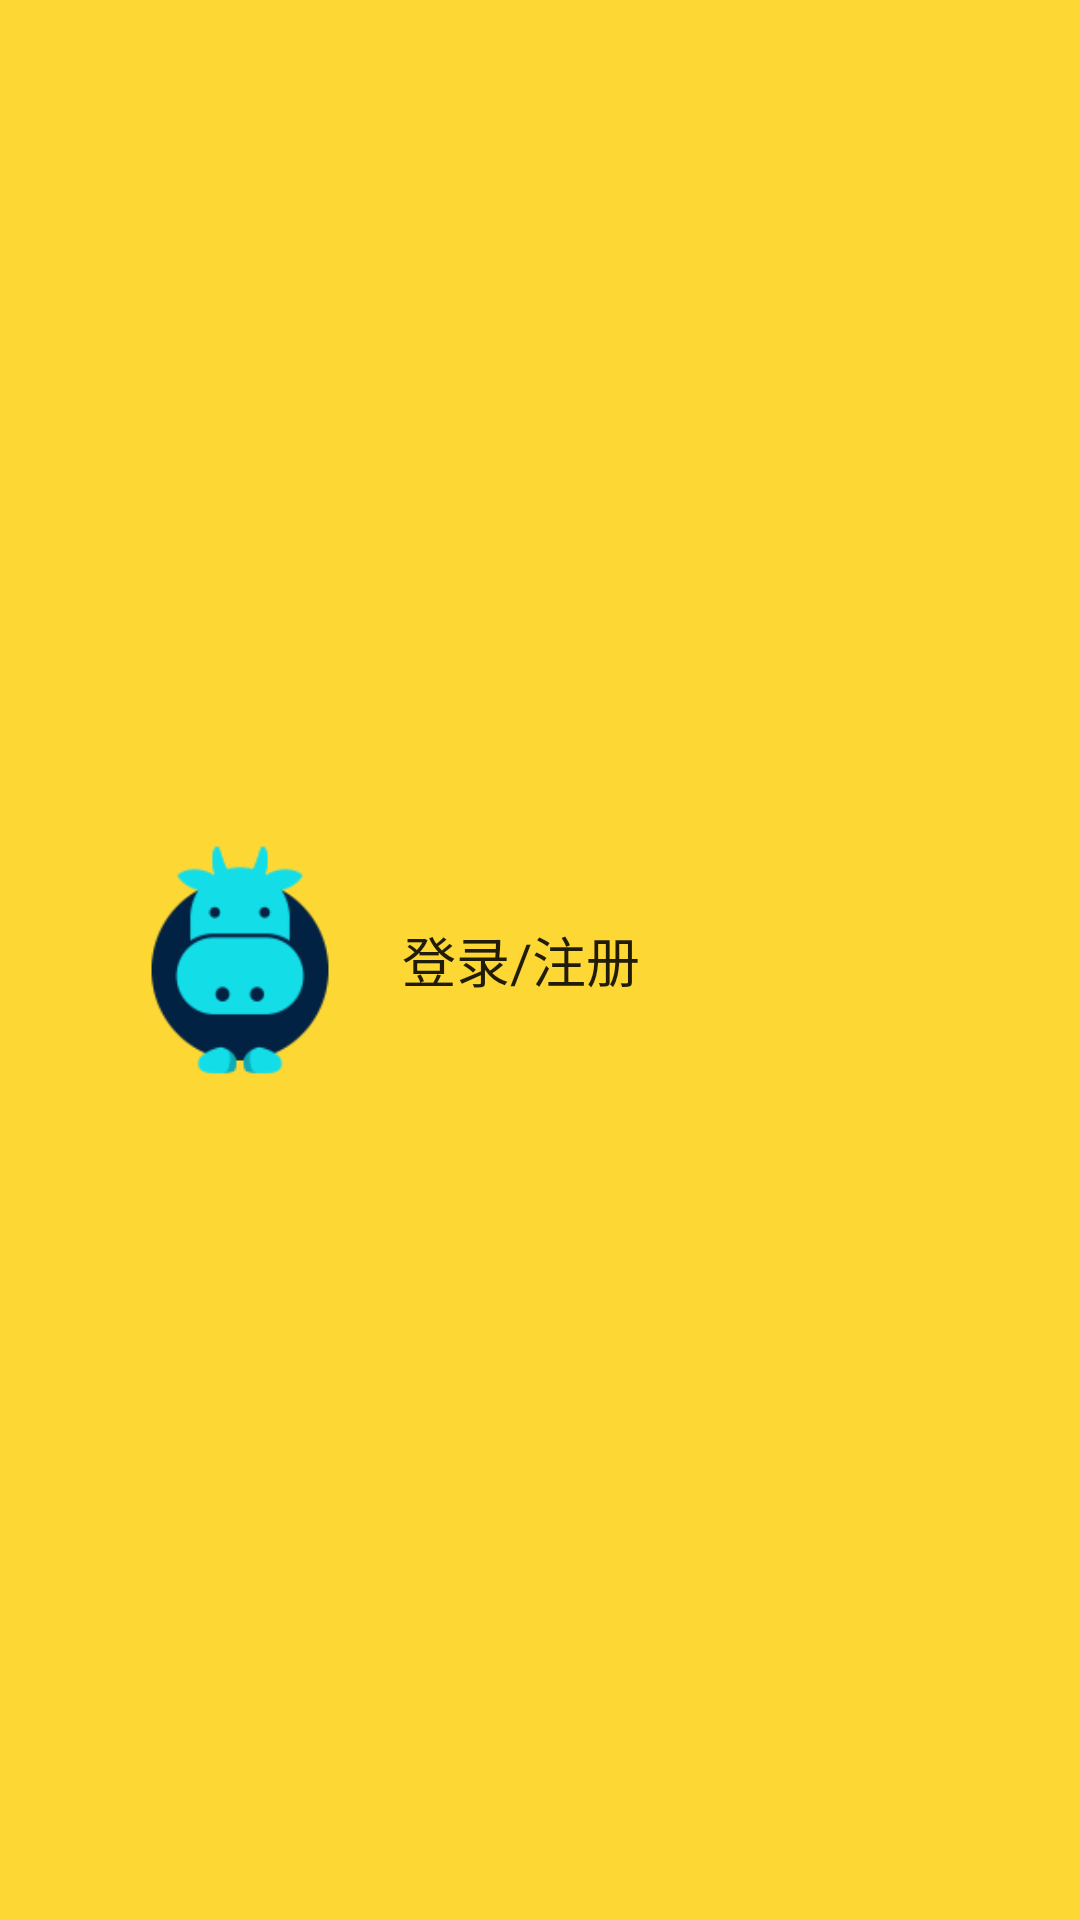

Point at icon controls on the screen. Image size 1080 x 1920, points as point (x, y).
user: point (240, 960)
